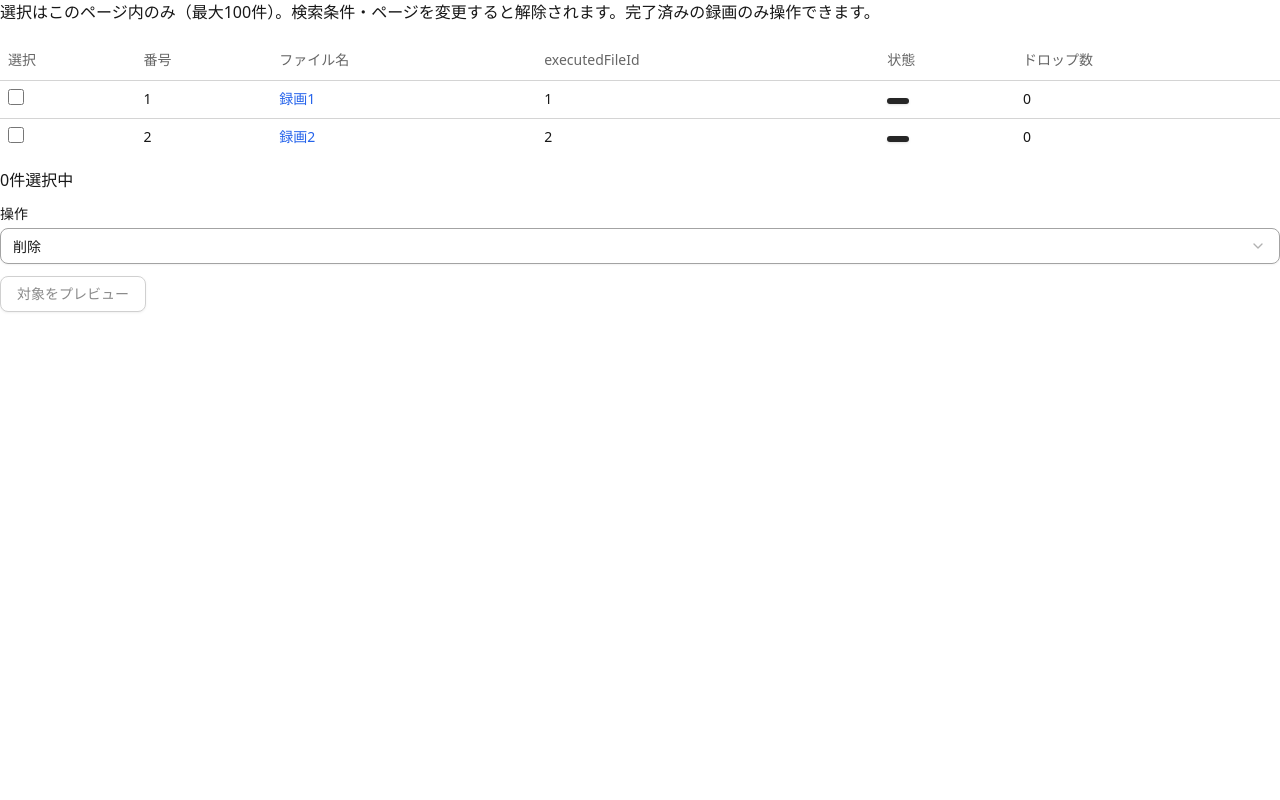
Test: requires preview and explicit confirmation, permits cancel, then refreshes with failed targets selected
Expected: the text "選択はこのページ内のみ（最大100件）。検索条件・ページを変更すると解除されます。完了済みの録画のみ操作できます。" is shown, x1=0 y1=1 x2=880 y2=23
Click the checkbox named "録画 1 を選択".
click(16, 96)  # box x1=8 y1=88 x2=24 y2=104
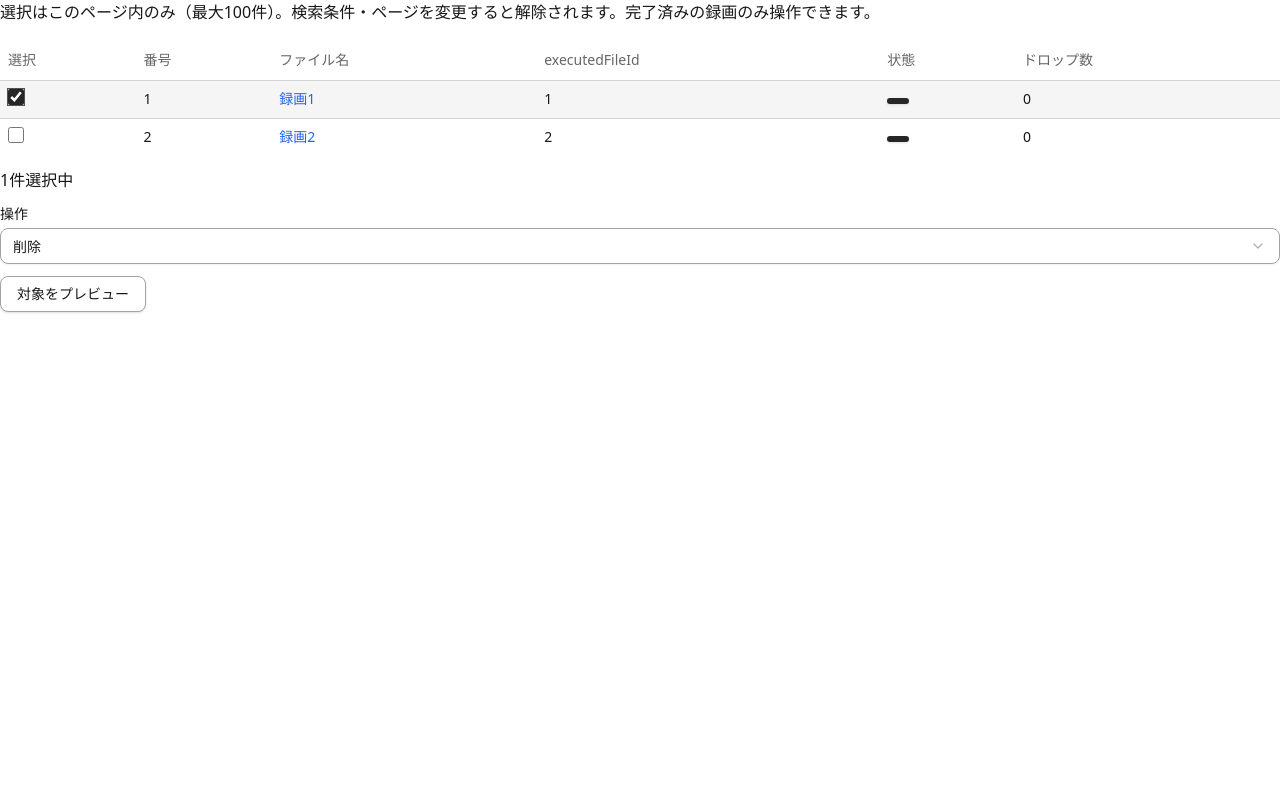
Click the checkbox named "録画 2 を選択".
click(16, 134)  # box x1=8 y1=126 x2=24 y2=142
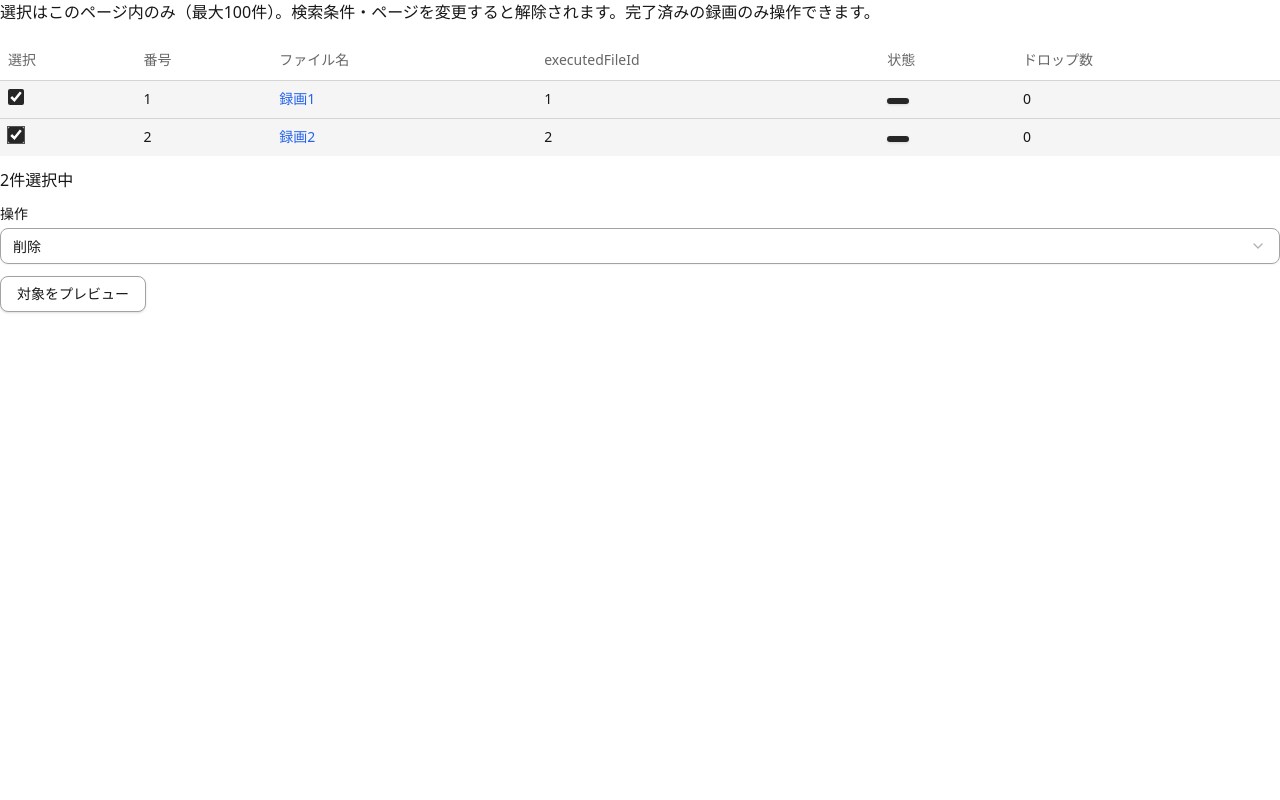
Click the button "対象をプレビュー".
click(73, 294)  # box x1=0 y1=276 x2=146 y2=312
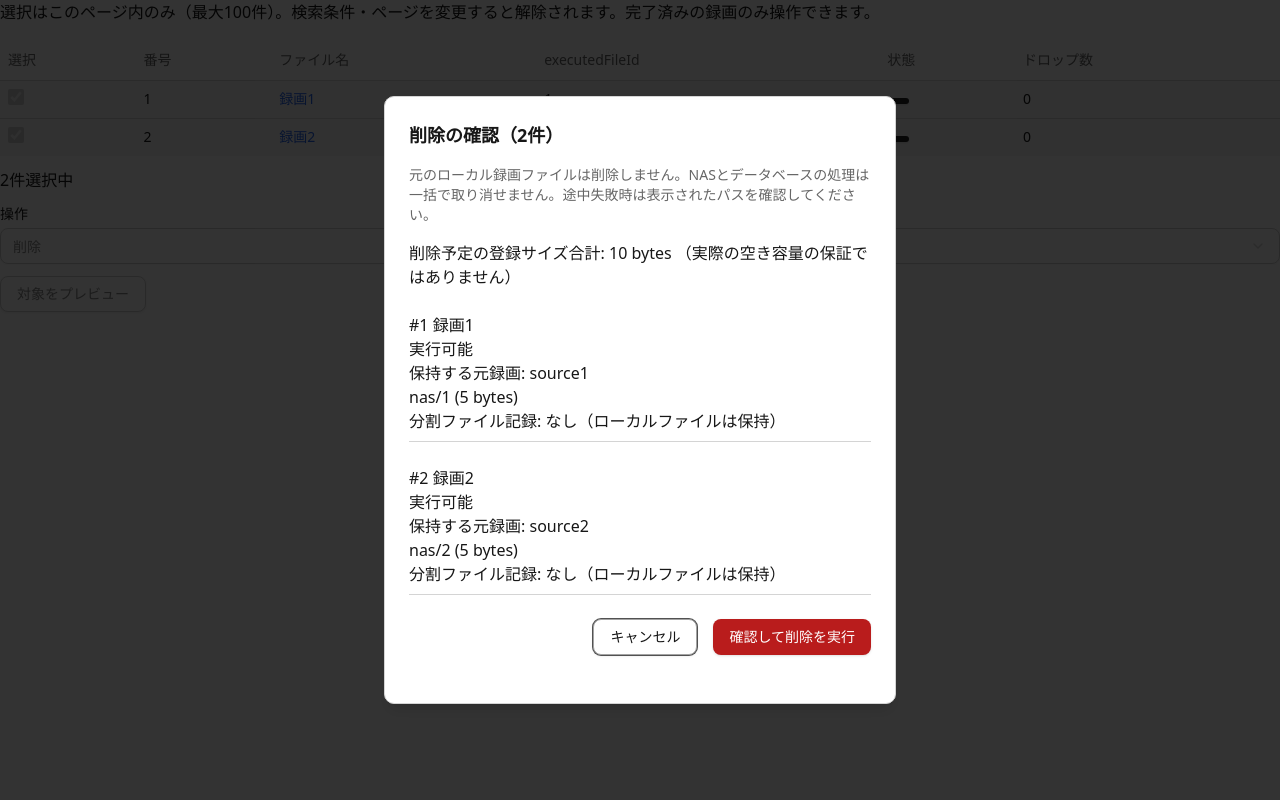
Expected: the text "保持する元録画: source1" is shown, x1=409 y1=362 x2=589 y2=384
Click the button "キャンセル".
click(645, 637)  # box x1=593 y1=619 x2=697 y2=655
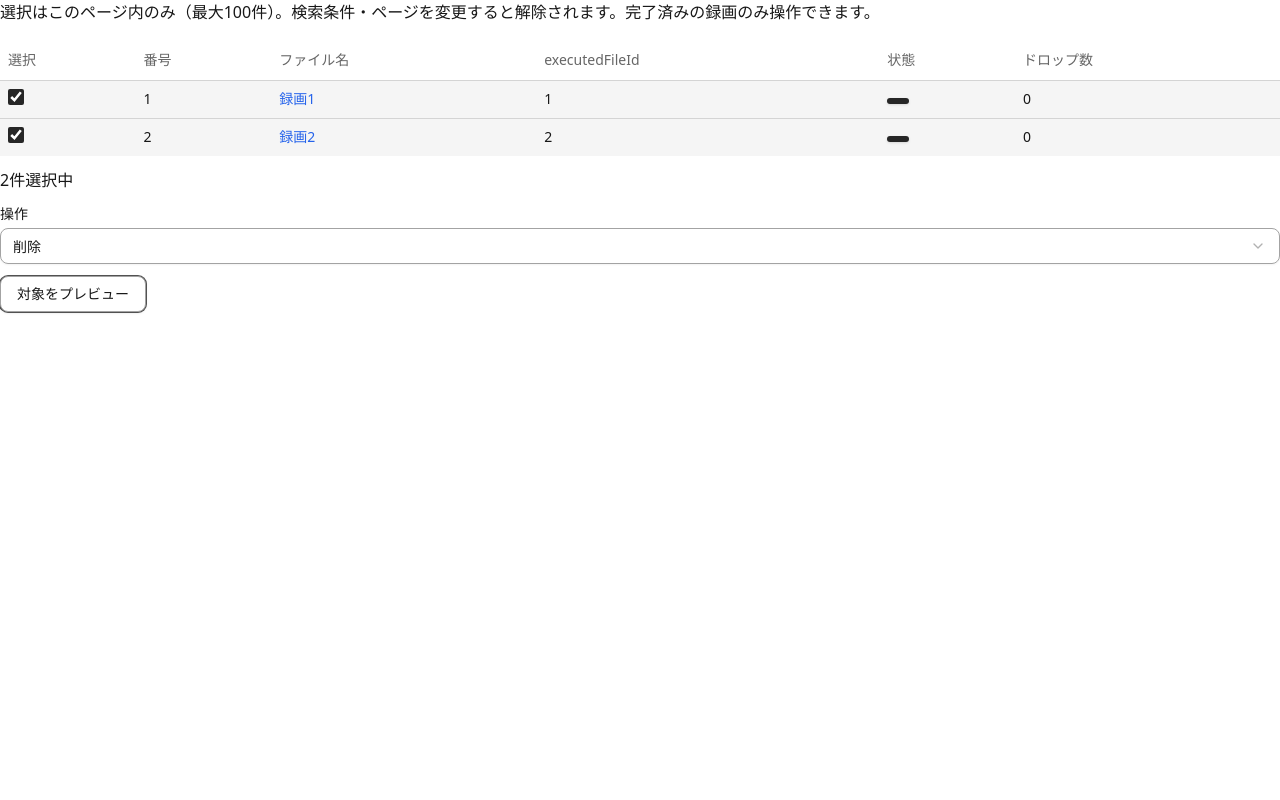
Expected: the button "確認して削除を実行" is gone
Click the button "対象をプレビュー".
click(73, 294)  # box x1=0 y1=276 x2=146 y2=312
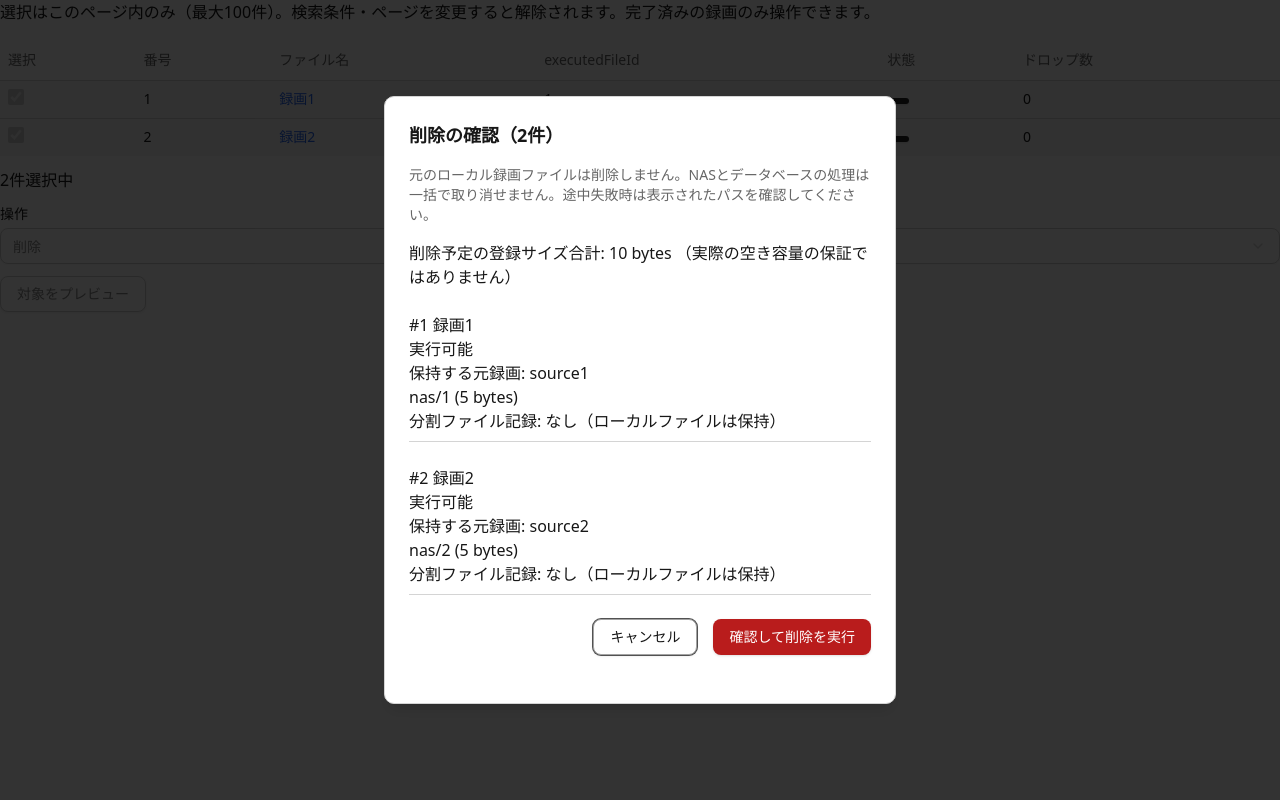
Click the button "確認して削除を実行".
click(792, 637)  # box x1=713 y1=619 x2=871 y2=655
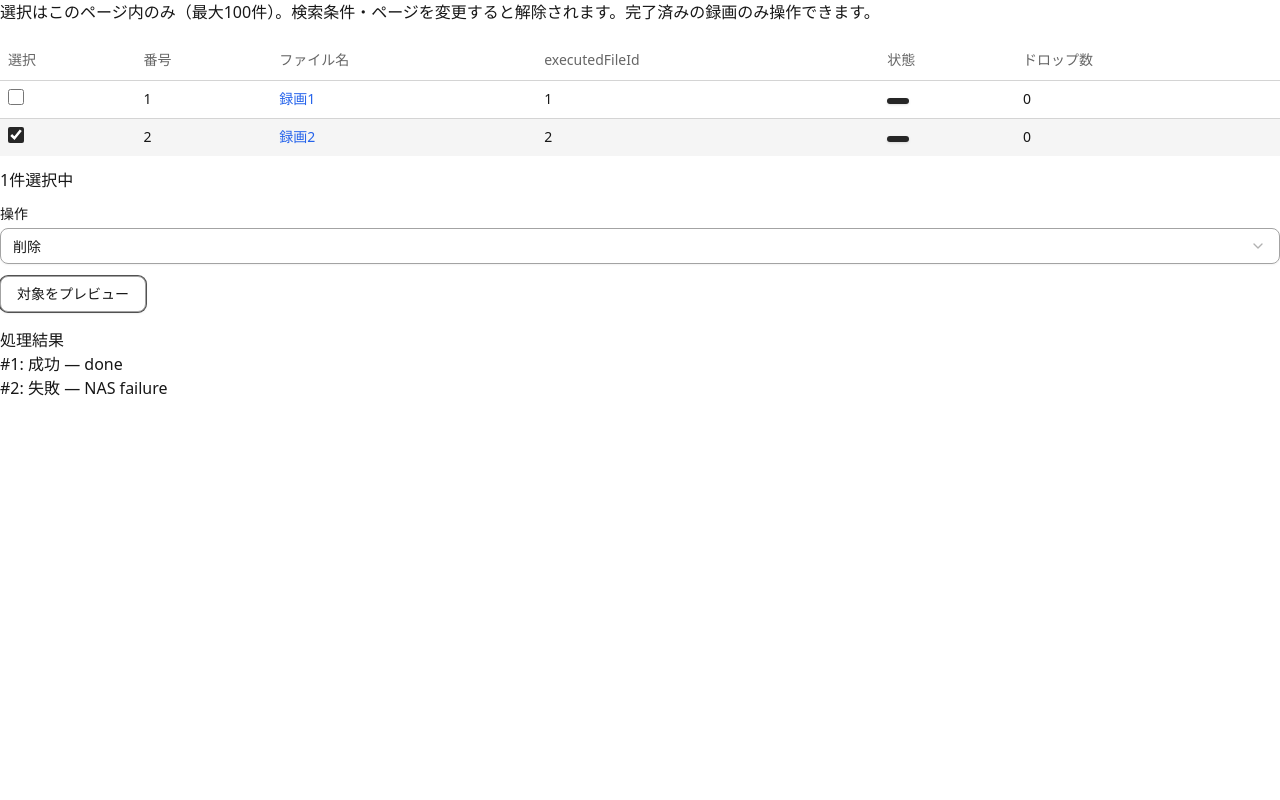
Expected: the checkbox named "録画 1 を選択" is not checked, x1=8 y1=88 x2=24 y2=104
Expected: the checkbox named "録画 2 を選択" is checked, x1=8 y1=126 x2=24 y2=142
Expected: the list item "#2: 失敗 — NAS failure" is shown, x1=0 y1=376 x2=168 y2=398
